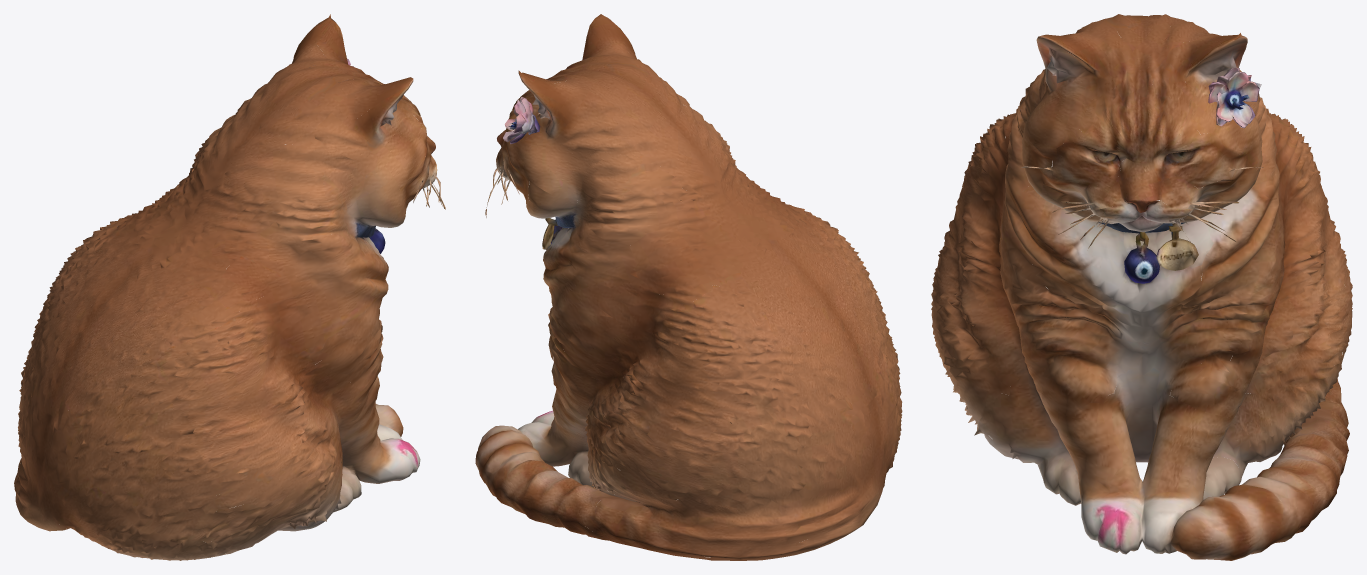
Rendered from marks_cat.glb.
The picture shows the model from 3 angles, left to right: view 1: azimuth 30°, elevation 25°; view 2: azimuth 150°, elevation 25°; view 3: azimuth 270°, elevation 25°; orthographic projection. The views are drawn at different scales.
Parts seen in each view (by area): view 1: tripo_node_ad4d6de3-8758-414c-9b16-a919c9b8dbf8; view 2: tripo_node_ad4d6de3-8758-414c-9b16-a919c9b8dbf8; view 3: tripo_node_ad4d6de3-8758-414c-9b16-a919c9b8dbf8.
Part boxes in pixels (bbox=[...]): tripo_node_ad4d6de3-8758-414c-9b16-a919c9b8dbf8: bbox=[14, 14, 445, 560]; tripo_node_ad4d6de3-8758-414c-9b16-a919c9b8dbf8: bbox=[475, 14, 902, 560]; tripo_node_ad4d6de3-8758-414c-9b16-a919c9b8dbf8: bbox=[931, 14, 1352, 560].
Size of the model in its own units: 0.9528 by 1 by 0.7472.
Materials: 1 (1 with a texture image).
